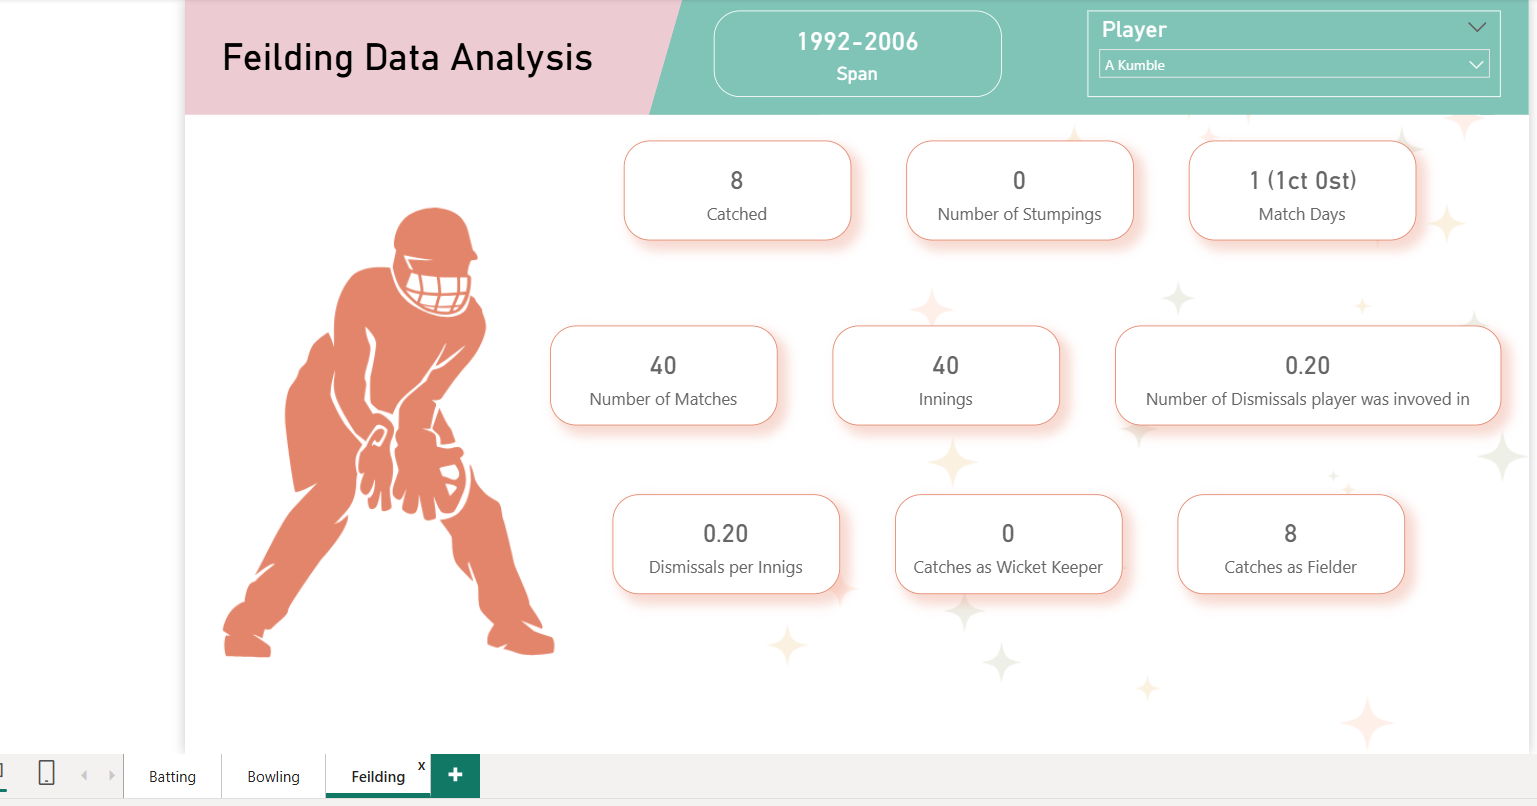

The page's visual inventory and layout, read from the dashboard file:
{"tool":"powerbi","page":{"name":"Feilding","canvas":[1280,720],"ordinal":2},"visuals":[{"type":"shape","box":[0,0,604,111.5],"z":0},{"type":"shape","box":[442.2,0,837.8,111.5],"z":1000},{"type":"shape","box":[1233.3,0,46.7,111.5],"z":2000},{"type":"slicer","fields":{"Values":["Feilding.Player"]},"box":[859.9,11.5,393.9,82.2],"z":3000},{"type":"card","fields":{"Values":["Sum(Feilding.Ct)"]},"box":[417.9,135.6,216.4,95.2],"z":4000},{"type":"card","fields":{"Values":["Sum(Feilding.St)"]},"box":[687,135.6,216.4,95.2],"z":5000},{"type":"card","fields":{"Values":["Min(Feilding.MD)"]},"box":[956.1,135.6,216.4,95.2],"z":6000},{"type":"card","fields":{"Values":["Sum(Feilding.Mat)"]},"box":[347.1,311.8,216.4,95.2],"z":7000},{"type":"card","fields":{"Values":["Sum(Feilding.Inns)"]},"box":[616.5,311.8,216.4,95.2],"z":8000},{"type":"card","fields":{"Values":["Sum(Feilding.D/I)"]},"box":[885.9,311.6,367.9,95.2],"z":9000},{"type":"card","fields":{"Values":["Sum(Feilding.D/I)"]},"box":[407.2,472.3,216.4,95.2],"z":10000},{"type":"card","fields":{"Values":["Sum(Feilding.Ct Wk)"]},"box":[676.2,472.3,216.4,95.2],"z":11000},{"type":"card","fields":{"Values":["Sum(Feilding.Ct Fi)"]},"box":[945.3,472.3,216.4,95.2],"z":12000},{"type":"card","fields":{"Values":["Min(Feilding.Span)"]},"box":[503.5,11.5,274.1,82.2],"z":13000}]}

Visuals, with their boxes on the page's 1280x720 design canvas (x1, y1, x2, y2). These are canvas units, not pixel positions in the 1537x806 screenshot, which may show the page scaled, cropped or inside an application window:
shape: pyautogui.locateOnScreen(0, 0, 604, 112)
shape: pyautogui.locateOnScreen(442, 0, 1280, 112)
shape: pyautogui.locateOnScreen(1233, 0, 1280, 112)
slicer - Feilding.Player: pyautogui.locateOnScreen(860, 12, 1254, 94)
card - Sum(Feilding.Ct): pyautogui.locateOnScreen(418, 136, 634, 231)
card - Sum(Feilding.St): pyautogui.locateOnScreen(687, 136, 903, 231)
card - Min(Feilding.MD): pyautogui.locateOnScreen(956, 136, 1172, 231)
card - Sum(Feilding.Mat): pyautogui.locateOnScreen(347, 312, 564, 407)
card - Sum(Feilding.Inns): pyautogui.locateOnScreen(616, 312, 833, 407)
card - Sum(Feilding.D/I): pyautogui.locateOnScreen(886, 312, 1254, 407)
card - Sum(Feilding.D/I): pyautogui.locateOnScreen(407, 472, 624, 568)
card - Sum(Feilding.Ct Wk): pyautogui.locateOnScreen(676, 472, 893, 568)
card - Sum(Feilding.Ct Fi): pyautogui.locateOnScreen(945, 472, 1162, 568)
card - Min(Feilding.Span): pyautogui.locateOnScreen(504, 12, 778, 94)
